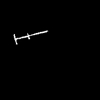double_crochet: (14, 31, 46, 43)
